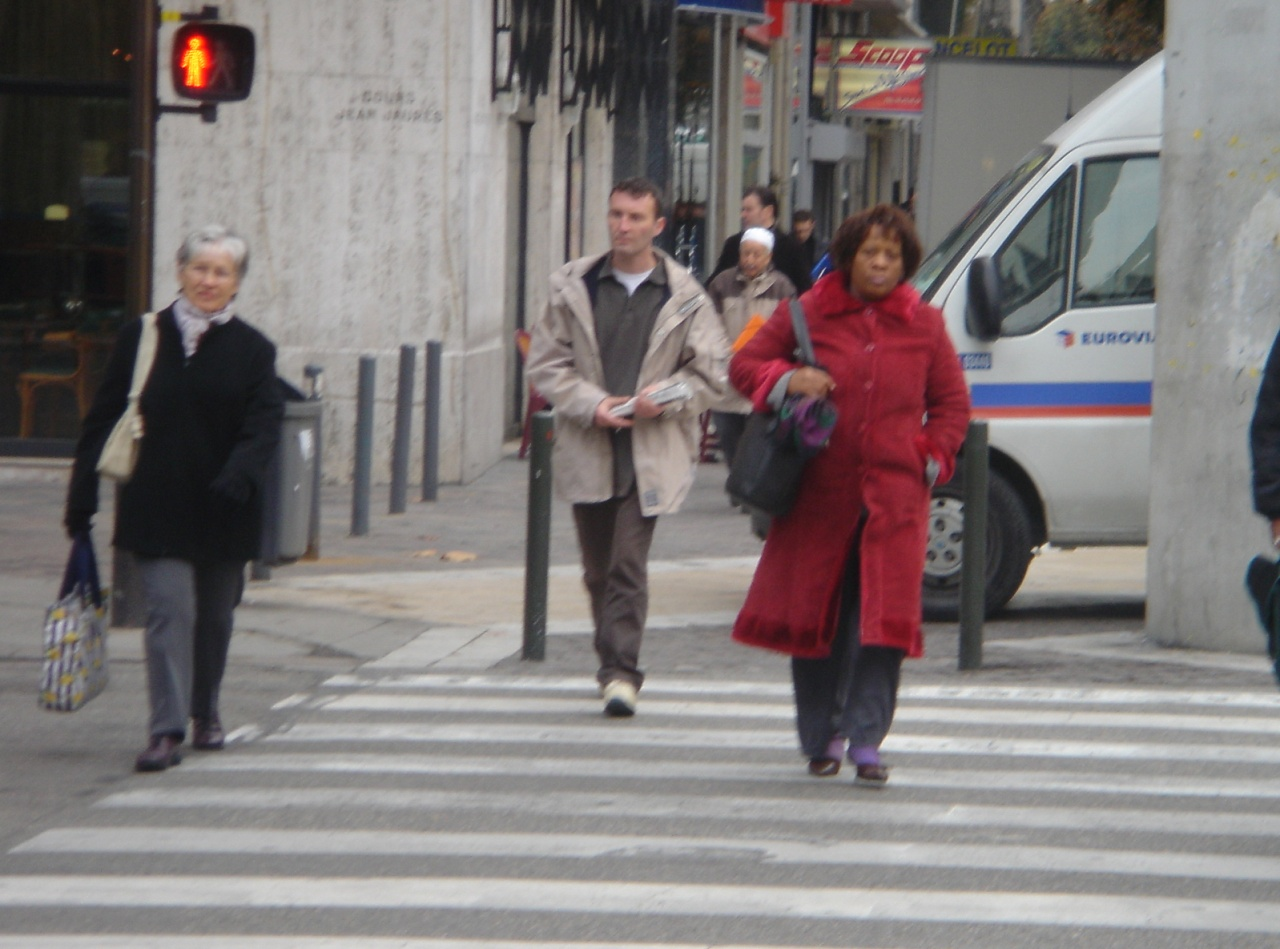person: (759, 199, 959, 791), (91, 219, 284, 772), (549, 177, 710, 717)
